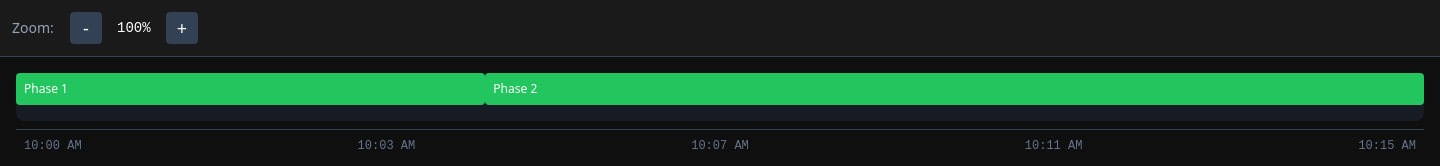
Scenario: TimelineView › should decrease zoom when zoom out button is clicked
Check: the text with test id "zoom-level" reads "100%", box top-left (117, 20), bottom-right (151, 36)
Click the button with test id "zoom-out-button" at (86, 28), box top-left (70, 12), bottom-right (102, 44)
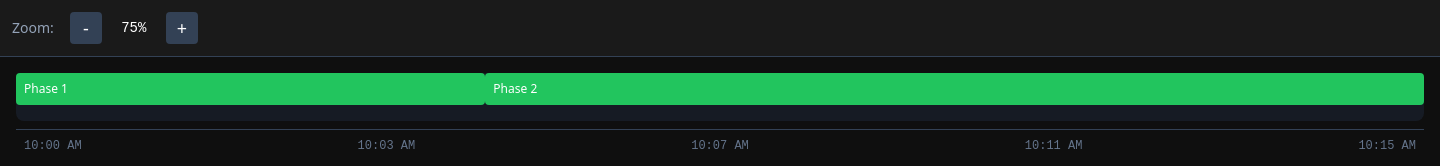
Check: the text with test id "zoom-level" reads "75%", box top-left (121, 20), bottom-right (146, 36)
